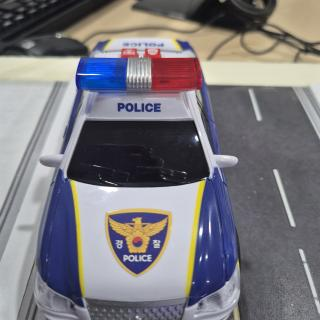Police_car: (34, 38, 240, 320)
